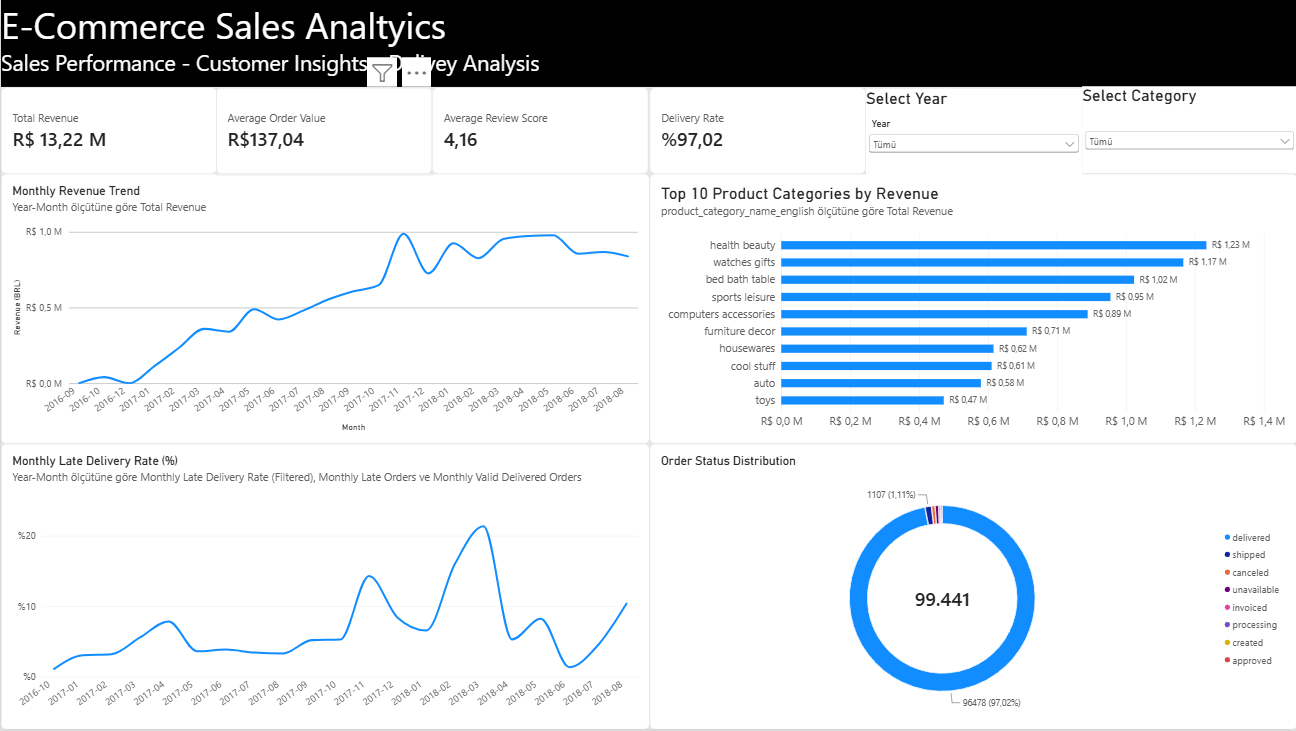

The dashboard page shown, as its layout file describes it:
{"tool":"powerbi","page":{"name":"1. sayfa","canvas":[1920,1080],"ordinal":0},"visuals":[{"type":"lineChart","title":"Monthly Revenue Trend","fields":{"Category":["dim_date.Year-Month"],"Y":["fact_orders.Total Revenue"]},"box":[0,257,960.9,399.9],"z":0},{"type":"clusteredBarChart","title":"Top 10 Product Categories by Revenue","fields":{"Category":["dim_products.product_category_name_english"],"Y":["fact_orders.Total Revenue"]},"box":[960.9,257,959.1,399.9],"z":1},{"type":"lineChart","title":"Monthly Late Delivery Rate (%)","fields":{"Category":["dim_date.Year-Month"],"Y":["fact_orders.Monthly Late Delivery Rate (Filtered)"]},"box":[0,656.9,960.9,423.5],"z":4},{"type":"textbox","box":[38,714.8,285.9,137.5],"z":5},{"type":"textbox","box":[0,0,1920.1,128.5],"z":6},{"type":"cardVisual","fields":{"Data":["fact_orders.Total Revenue"]},"box":[0,130.3,320,128.5],"z":7},{"type":"cardVisual","fields":{"Data":["fact_orders.Average Order Value"]},"box":[318.5,130.3,320,128.5],"z":8},{"type":"cardVisual","fields":{"Data":["fact_orders.Average Review Score"]},"box":[638.8,130.3,320,128],"z":9},{"type":"cardVisual","fields":{"Data":["fact_orders.Delivery Rate"]},"box":[960.9,130.3,320,128],"z":10},{"type":"donutChart","title":"Order Status Distribution","fields":{"Category":["fact_orders.order_status"],"Y":["CountNonNull(fact_orders.order_id)"]},"box":[961,657,959,423],"z":11},{"type":"slicer","title":"Select Year","fields":{"Values":["dim_date.Year"]},"box":[1281.2,132.1,320,128],"z":12},{"type":"slicer","title":"Select Category","fields":{"Values":["dim_products.product_category_name_english"]},"box":[1601.5,128.5,318.5,128.5],"z":13}]}

Visuals, with their boxes in screenshot pixels (x1, y1, x2, y2), scaled from the page's 1920x1080 canvas onto the 1296x731 screenshot:
"Monthly Revenue Trend" lineChart: rect(0, 174, 649, 445)
"Top 10 Product Categories by Revenue" clusteredBarChart: rect(649, 174, 1295, 445)
"Monthly Late Delivery Rate (%)" lineChart: rect(0, 445, 649, 730)
textbox: rect(26, 484, 219, 577)
textbox: rect(0, 0, 1295, 87)
cardVisual - fact_orders.Total Revenue: rect(0, 88, 216, 175)
cardVisual - fact_orders.Average Order Value: rect(215, 88, 431, 175)
cardVisual - fact_orders.Average Review Score: rect(431, 88, 647, 175)
cardVisual - fact_orders.Delivery Rate: rect(649, 88, 865, 175)
"Order Status Distribution" donutChart: rect(649, 445, 1295, 730)
"Select Year" slicer: rect(865, 89, 1081, 176)
"Select Category" slicer: rect(1081, 87, 1295, 174)
